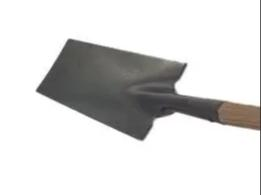PELLE: (32, 24, 261, 156)
